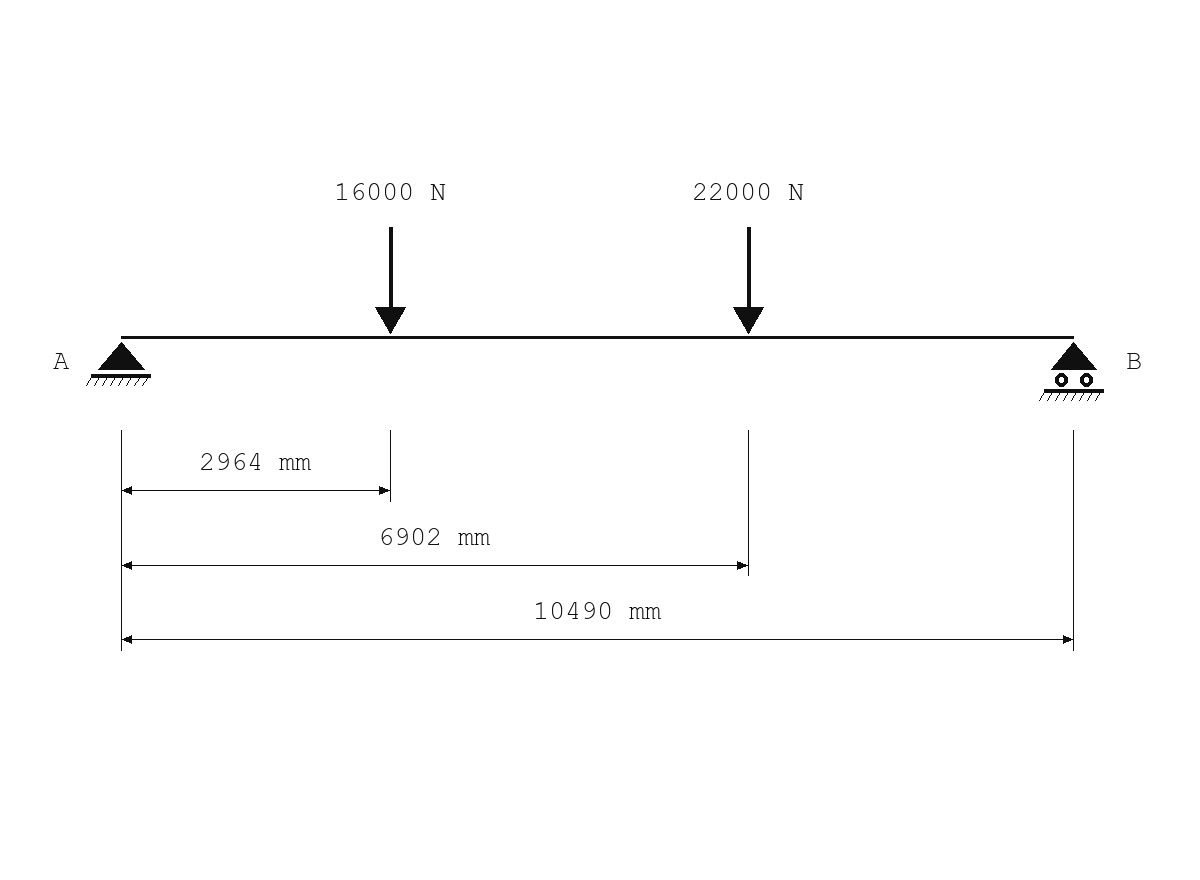pin_support: (86, 342, 151, 386)
point_load: (375, 227, 406, 334), (733, 227, 764, 334)
roller_support: (1039, 342, 1104, 401)
